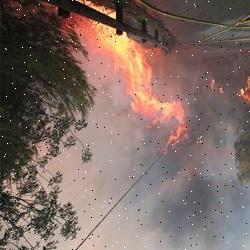fire: (94, 30, 194, 160)
